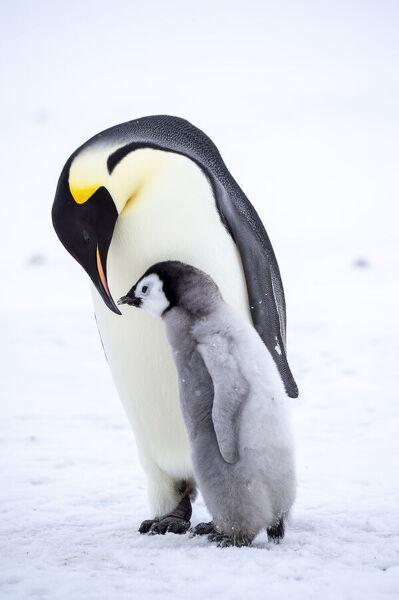emporer: (33, 81, 311, 546)
